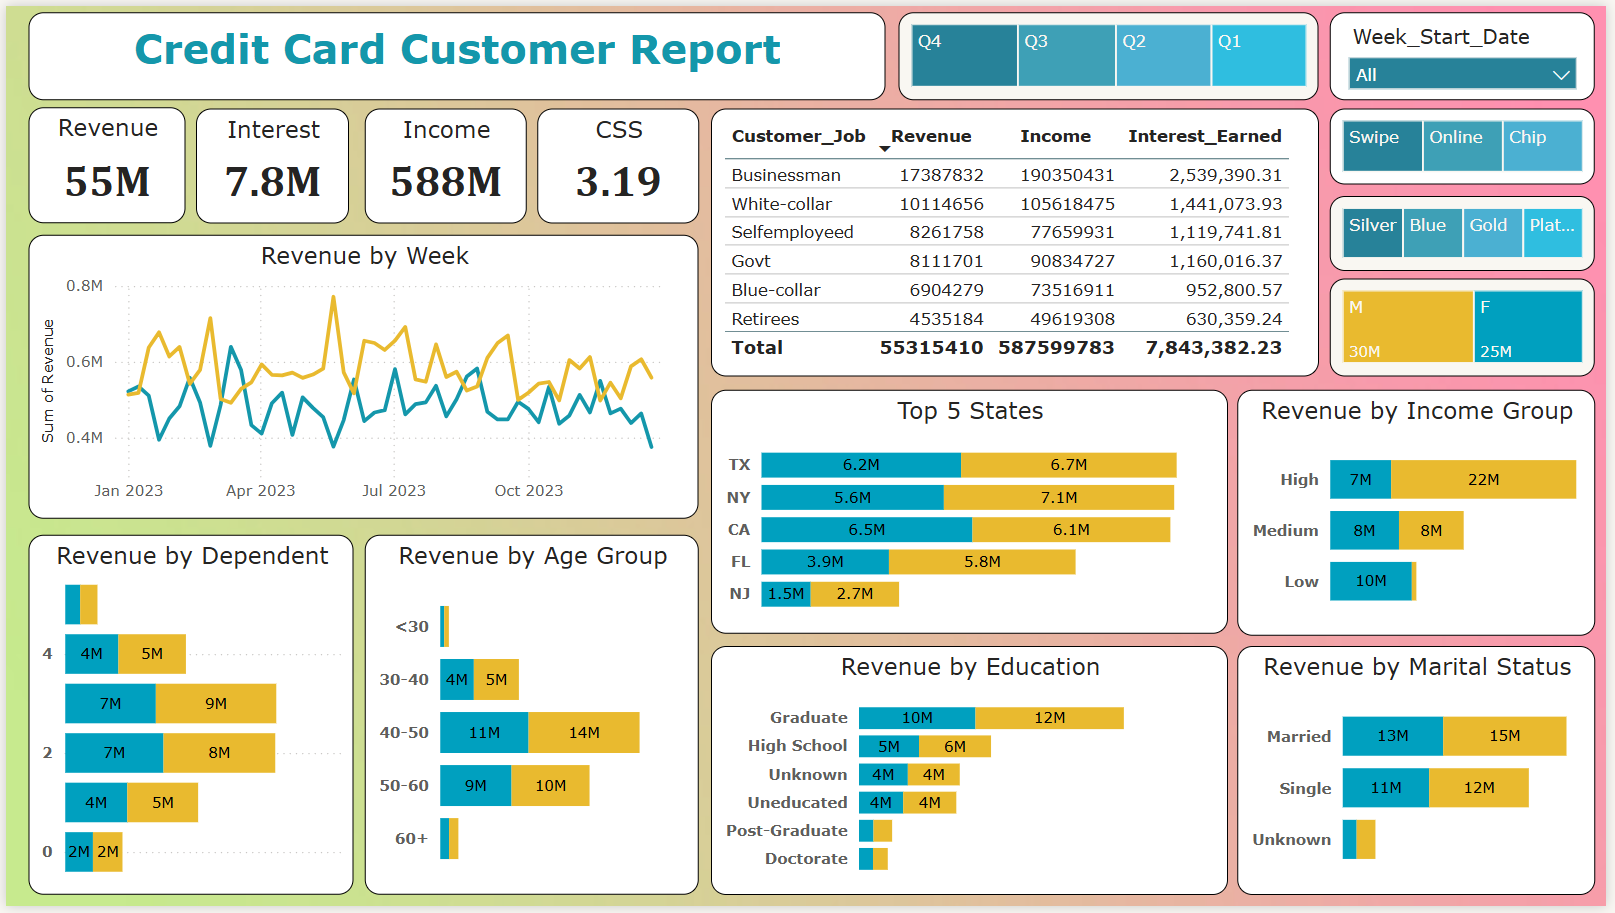

The page's visual inventory and layout, read from the dashboard file:
{"tool":"powerbi","page":{"name":"CC Customer","canvas":[1280,720],"ordinal":1},"visuals":[{"type":"textbox","box":[17.8,5.5,684.7,70],"z":0},{"type":"barChart","title":"Revenue by Income Group","fields":{"Y":["Sum(credit_card.Revenue)"],"Category":["creditcard cust_detail.IncomeGroup"],"Series":["creditcard cust_detail.Gender"]},"box":[985.3,307.4,285.4,196.2],"z":1000},{"type":"card","title":"Revenue","fields":{"Values":["Sum(credit_card.Revenue)"]},"box":[17.8,81,124.9,93.3],"z":2000},{"type":"card","title":"Interest","fields":{"Values":["Sum(credit_card.Interest_Earned)"]},"box":[152.3,82.3,122.1,91.9],"z":3000},{"type":"card","title":"CSS","fields":{"Values":["Avg(creditcard cust_detail.Cust_Satisfaction_Score)"]},"box":[425.4,82.3,129,91.9],"z":4000},{"type":"card","title":"Income","fields":{"Values":["Sum(creditcard cust_detail.Income)"]},"box":[286.8,82.3,129,91.9],"z":5000},{"type":"slicer","fields":{"Values":["credit_card.Week_Start_Date"]},"box":[1059.4,5.5,211.3,70],"z":6000},{"type":"treemap","fields":{"Group":["credit_card.Qtr"],"Values":["Avg(credit_card.Client_Num)"]},"box":[713.6,5.5,336.2,70],"z":7000},{"type":"treemap","fields":{"Group":["creditcard cust_detail.Gender"],"Values":["Sum(credit_card.Revenue)"]},"box":[1059.4,218.2,211.3,78.2],"z":8000},{"type":"treemap","fields":{"Group":["credit_card.Card_Category"],"Values":["Avg(credit_card.Client_Num)"]},"box":[1059.4,152.3,211.3,60],"z":9000},{"type":"treemap","fields":{"Group":["credit_card.Use Chip"],"Values":["Avg(credit_card.Client_Num)"]},"box":[1059.4,82.3,211.3,60.4],"z":10000},{"type":"lineChart","title":"Revenue by Week","fields":{"Y":["Sum(credit_card.Revenue)"],"Series":["creditcard cust_detail.Gender"],"Category":["credit_card.Week_Start_Date.Variation.Date Hierarchy.Year","credit_card.Week_Start_Date.Variation.Date Hierarchy.Month","credit_card.Week_Start_Date.Variation.Date Hierarchy.Day"]},"box":[17.8,182.5,536.5,227.8],"z":11000},{"type":"barChart","title":"Revenue by Age Group","fields":{"Y":["Sum(credit_card.Revenue)"],"Category":["creditcard cust_detail.AgeGroup"],"Series":["creditcard cust_detail.Gender"]},"box":[286.8,422.6,267.6,288.2],"z":12000},{"type":"barChart","title":"Revenue by Education","fields":{"Y":["Sum(credit_card.Revenue)"],"Category":["creditcard cust_detail.Education_Level"],"Series":["creditcard cust_detail.Gender"]},"box":[564,511.8,413,199],"z":13000},{"type":"barChart","title":"Revenue by Dependent","fields":{"Y":["Sum(credit_card.Revenue)"],"Category":["creditcard cust_detail.Dependent_Count"],"Series":["creditcard cust_detail.Gender"]},"box":[17.8,422.6,260,288.2],"z":14000},{"type":"barChart","title":"Top 5 States","fields":{"Y":["Sum(credit_card.Revenue)"],"Category":["creditcard cust_detail.state_cd"],"Series":["creditcard cust_detail.Gender"]},"box":[564,307.4,413,194.9],"z":15000},{"type":"barChart","title":"Revenue by Marital Status","fields":{"Y":["Sum(credit_card.Revenue)"],"Category":["creditcard cust_detail.Marital_Status"],"Series":["creditcard cust_detail.Gender"]},"box":[985.3,511.8,285.4,199],"z":16000},{"type":"tableEx","fields":{"Values":["creditcard cust_detail.Customer_Job","Sum(credit_card.Revenue)","Sum(creditcard cust_detail.Income)","Sum(credit_card.Interest_Earned)"]},"box":[564,82.3,485.8,214.1],"z":17000}]}

Visuals, with their boxes in screenshot pixels (x1, y1, x2, y2), scaled from the page's 1280x720 canvas onto the 1615x913 screenshot:
textbox: x1=22, y1=7, x2=886, y2=96
"Revenue by Income Group" barChart: x1=1243, y1=390, x2=1603, y2=639
"Revenue" card: x1=22, y1=103, x2=180, y2=221
"Interest" card: x1=192, y1=104, x2=346, y2=221
"CSS" card: x1=537, y1=104, x2=699, y2=221
"Income" card: x1=362, y1=104, x2=525, y2=221
slicer - credit_card.Week_Start_Date: x1=1337, y1=7, x2=1603, y2=96
treemap - credit_card.Qtr x Avg(credit_card.Client_Num): x1=900, y1=7, x2=1325, y2=96
treemap - creditcard cust_detail.Gender x Sum(credit_card.Revenue): x1=1337, y1=277, x2=1603, y2=376
treemap - credit_card.Card_Category x Avg(credit_card.Client_Num): x1=1337, y1=193, x2=1603, y2=269
treemap - credit_card.Use Chip x Avg(credit_card.Client_Num): x1=1337, y1=104, x2=1603, y2=181
"Revenue by Week" lineChart: x1=22, y1=231, x2=699, y2=520
"Revenue by Age Group" barChart: x1=362, y1=536, x2=699, y2=901
"Revenue by Education" barChart: x1=712, y1=649, x2=1233, y2=901
"Revenue by Dependent" barChart: x1=22, y1=536, x2=351, y2=901
"Top 5 States" barChart: x1=712, y1=390, x2=1233, y2=637
"Revenue by Marital Status" barChart: x1=1243, y1=649, x2=1603, y2=901
tableEx - creditcard cust_detail.Customer_Job x Sum(credit_card.Revenue): x1=712, y1=104, x2=1325, y2=376
